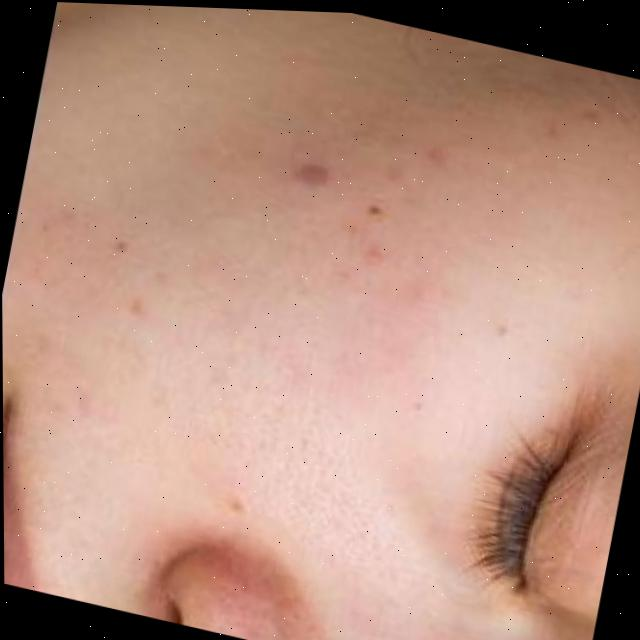Acne: (32, 42, 474, 391)
